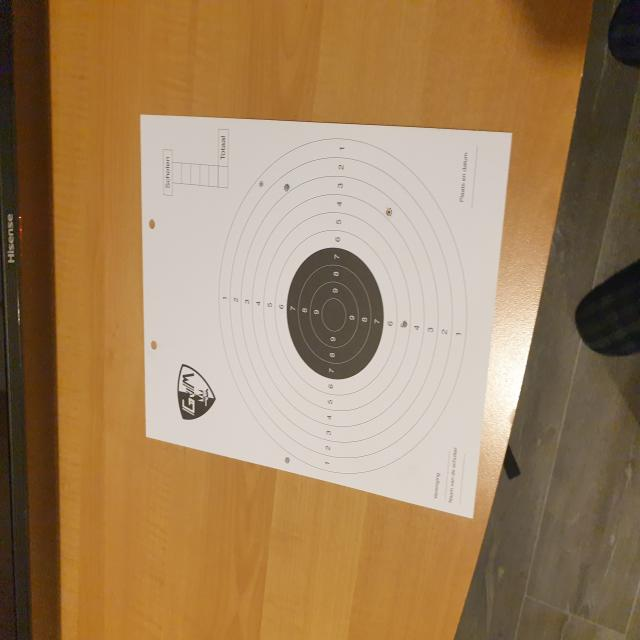0: (285, 456, 290, 464)
1: (258, 180, 264, 188)
3: (384, 206, 394, 217), (282, 182, 291, 193)
5: (402, 320, 408, 328)
Target: (218, 138, 468, 475)
black_contour: (286, 248, 384, 380)
